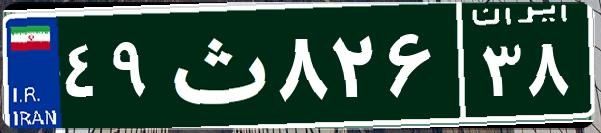2: (330, 28, 385, 110)
3: (475, 38, 525, 113)
4: (57, 26, 110, 107)
6: (385, 28, 445, 110)
8: (273, 28, 330, 110), (525, 38, 570, 115)
9: (110, 28, 158, 105)
ث: (158, 15, 273, 115)
